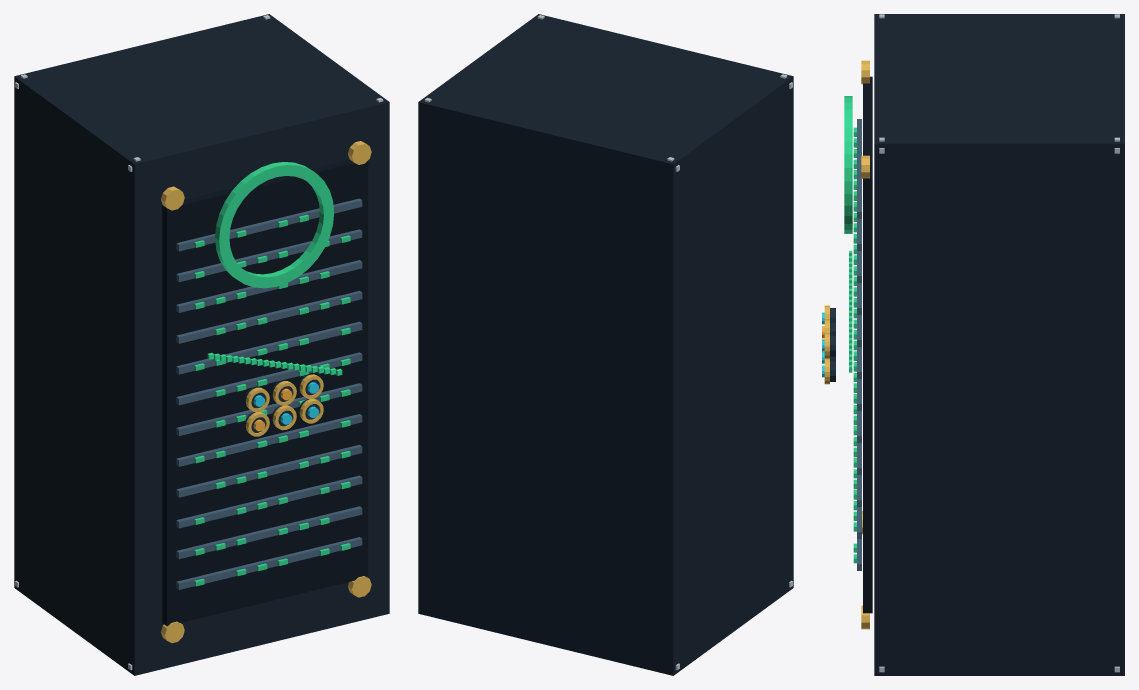
The model's file is 31_L81_RedundantComputeCoreC.fbx.
3 renders of one model, left to right at view 1: azimuth 30°, elevation 25°; view 2: azimuth 150°, elevation 25°; view 3: azimuth 270°, elevation 25°, orthographic. The views are drawn at different scales.
Visible parts, largest first — view 1: RedundantComputeCoreC; view 2: RedundantComputeCoreC; view 3: RedundantComputeCoreC.
Part boxes in pixels (x1,y1,x2,y2): RedundantComputeCoreC: (14,14,389,675); RedundantComputeCoreC: (418,14,793,675); RedundantComputeCoreC: (822,14,1124,675).
Bounding box in the file's own units: 144 × 274 × 140.
